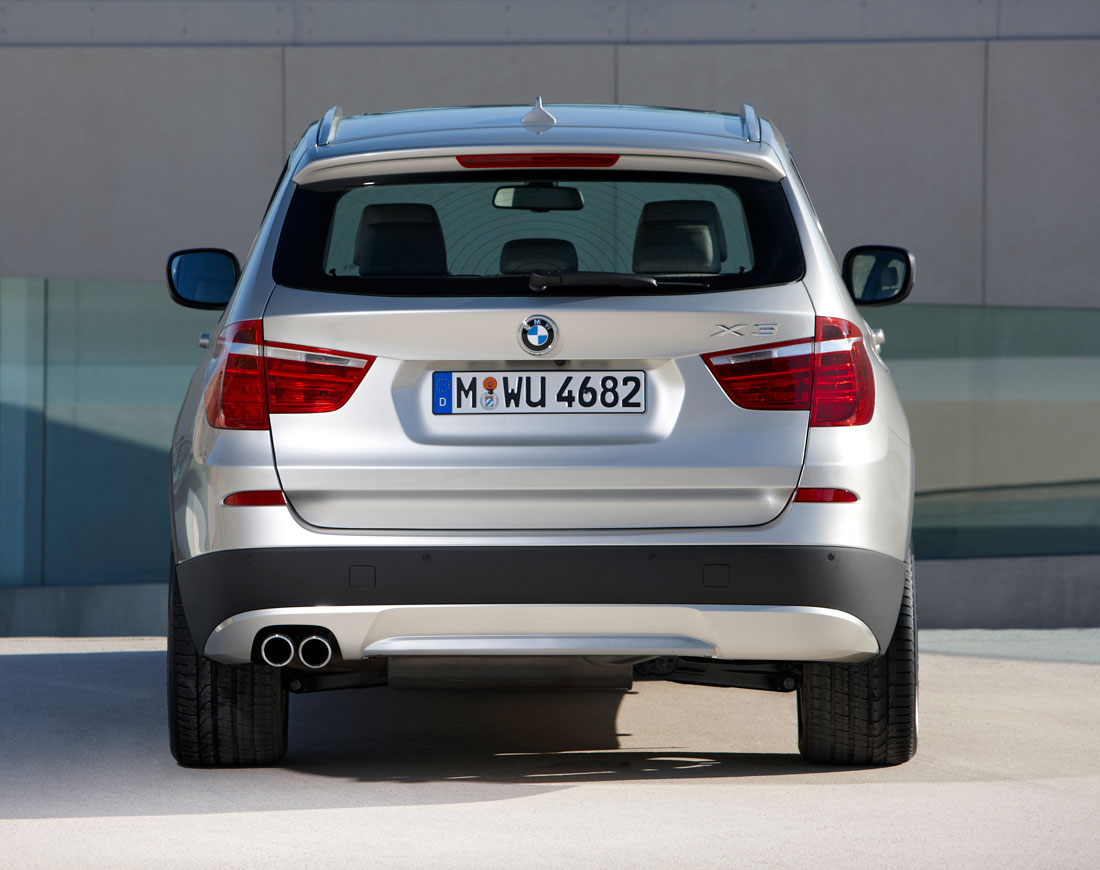bmw: (153, 91, 941, 806)
